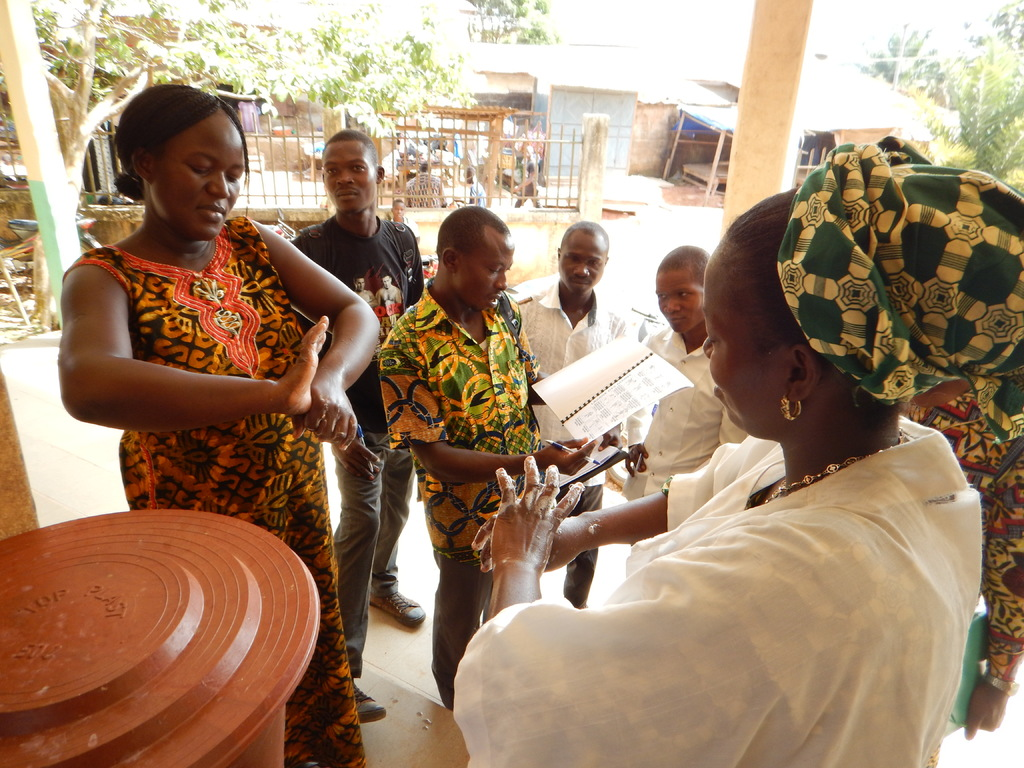Human_hand: (491, 454, 584, 570), (467, 513, 584, 572), (276, 314, 332, 421), (291, 372, 359, 451), (536, 431, 597, 477), (966, 679, 1012, 740), (328, 437, 381, 484), (625, 440, 650, 483), (595, 422, 622, 452)
